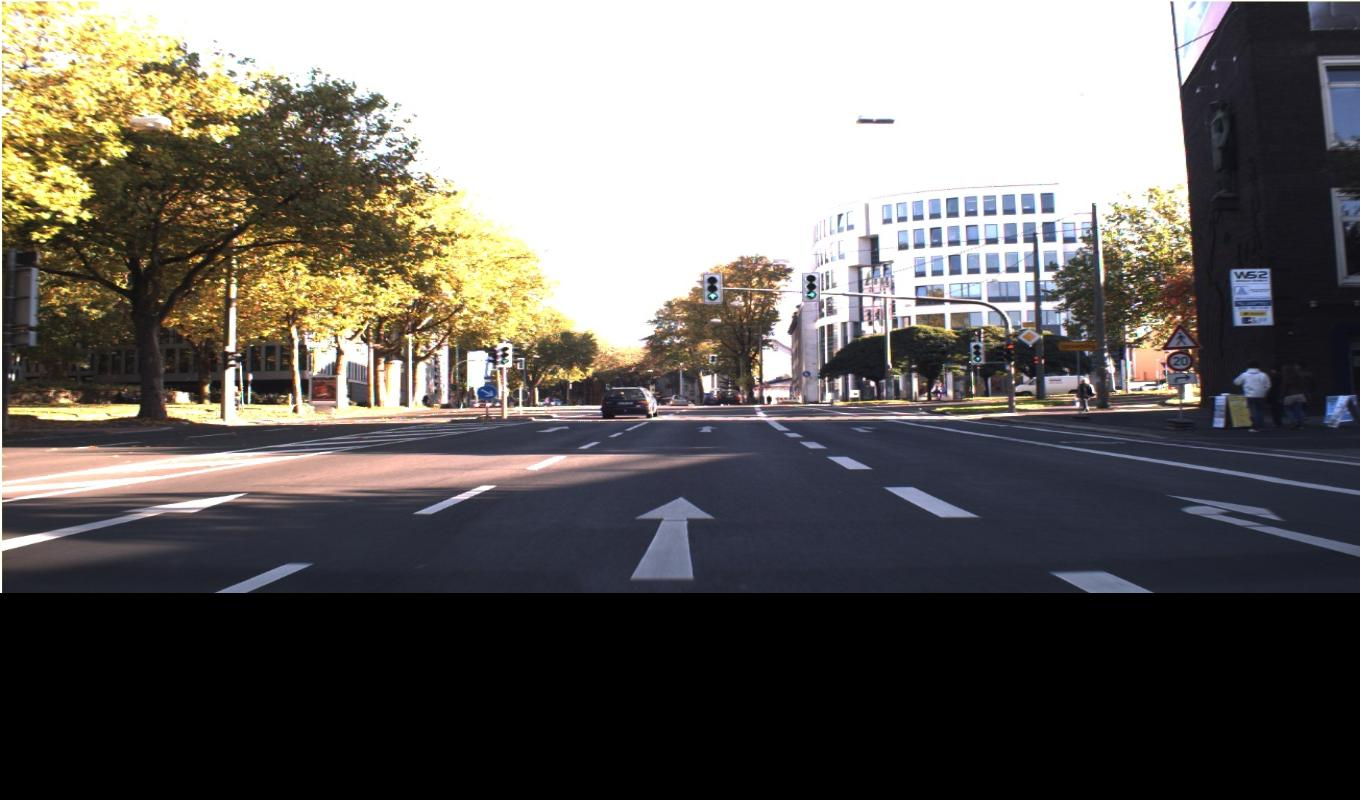pedestrian crossing: (476, 323, 1202, 400)
